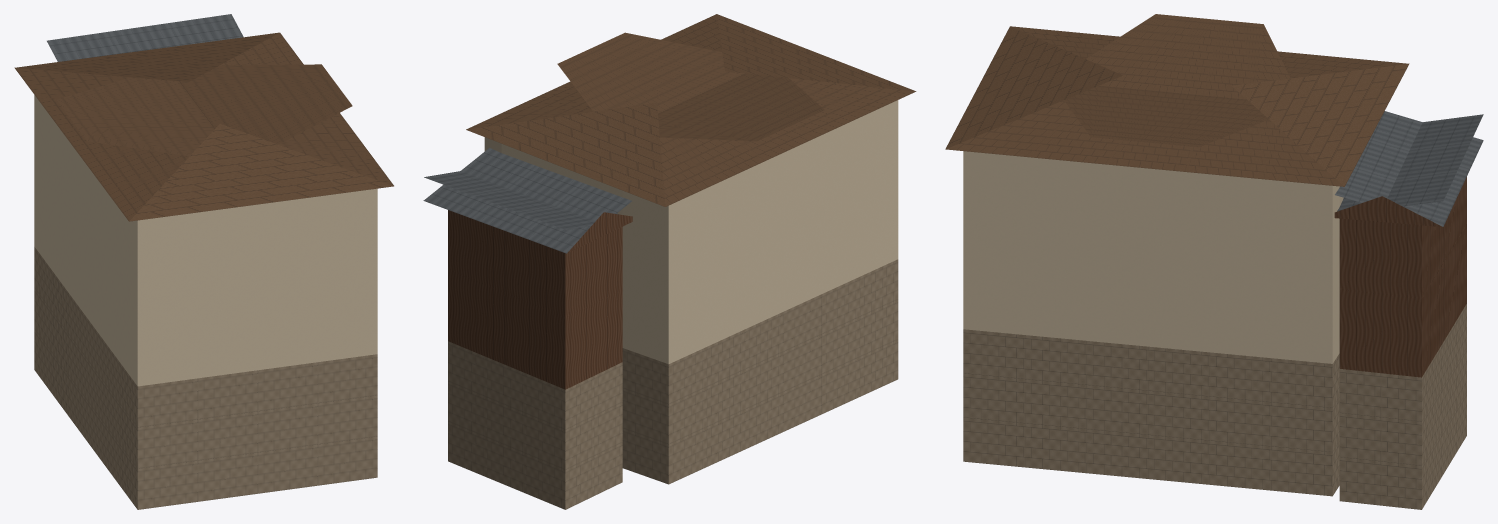
Rendered from bld_c32_-37_456.gltf.
3 views of the same model, side by side, from view 1: azimuth 30°, elevation 25°; view 2: azimuth 150°, elevation 25°; view 3: azimuth 270°, elevation 25° (orthographic). The views are drawn at different scales.
Parts seen in each view (by area): view 1: bld_c32_-37_456; view 2: bld_c32_-37_456; view 3: bld_c32_-37_456.
Boxes of the visible parts, <box> form: bld_c32_-37_456: <box>14,14,393,509</box>; bld_c32_-37_456: <box>423,14,916,509</box>; bld_c32_-37_456: <box>945,14,1483,509</box>.
Bounding box in the file's own units: 13.27 × 13.8 × 18.8.
6 materials, 6 textured.
